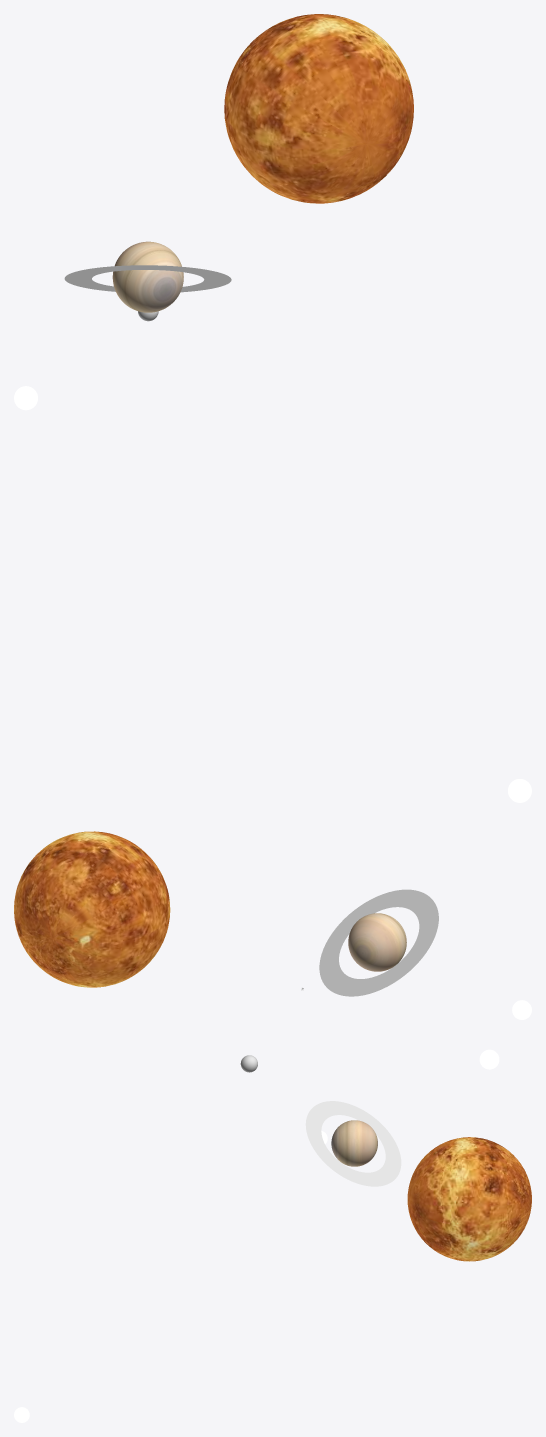
The picture shows the model from 3 angles, top to bottom: view 1: azimuth 30°, elevation 25°; view 2: azimuth 150°, elevation 25°; view 3: azimuth 270°, elevation 25°; orthographic projection. The views are drawn at different scales.
Visible parts, largest first — view 1: test.001, test.004, test; view 2: test.001, test, test.004, Sphere.001, Sphere; view 3: test.001, test, test.004.
Part boxes in pixels (<box>): test.001: <box>224,14,413,203</box>; test.004: <box>112,241,183,312</box>; test: <box>64,265,231,292</box>; test.001: <box>14,831,170,987</box>; test: <box>319,889,438,996</box>; test.004: <box>348,913,406,971</box>; Sphere.001: <box>479,1049,499,1069</box>; Sphere: <box>512,1000,531,1019</box>; test.001: <box>407,1137,531,1261</box>; test: <box>305,1101,401,1186</box>; test.004: <box>331,1120,377,1166</box>.
Size of the model in its own units: 408 by 385 by 558.
Materials: 5 (2 with a texture image).
